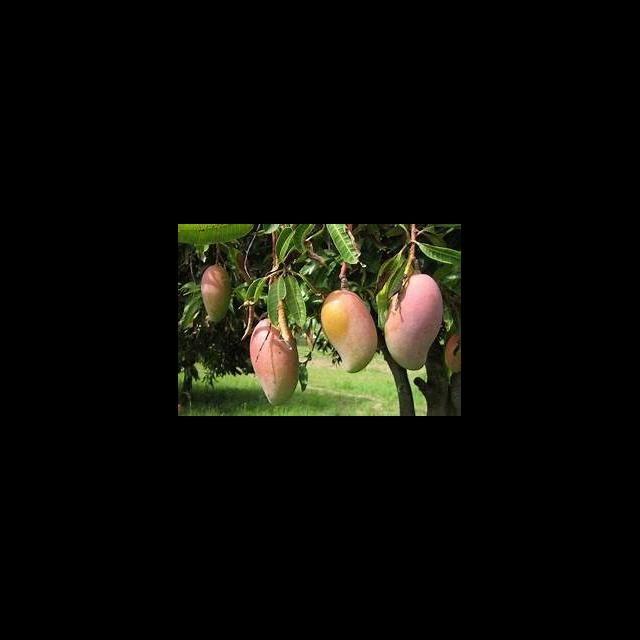mango: (384, 274, 443, 372), (320, 288, 378, 374), (248, 318, 302, 406), (200, 265, 234, 323)
